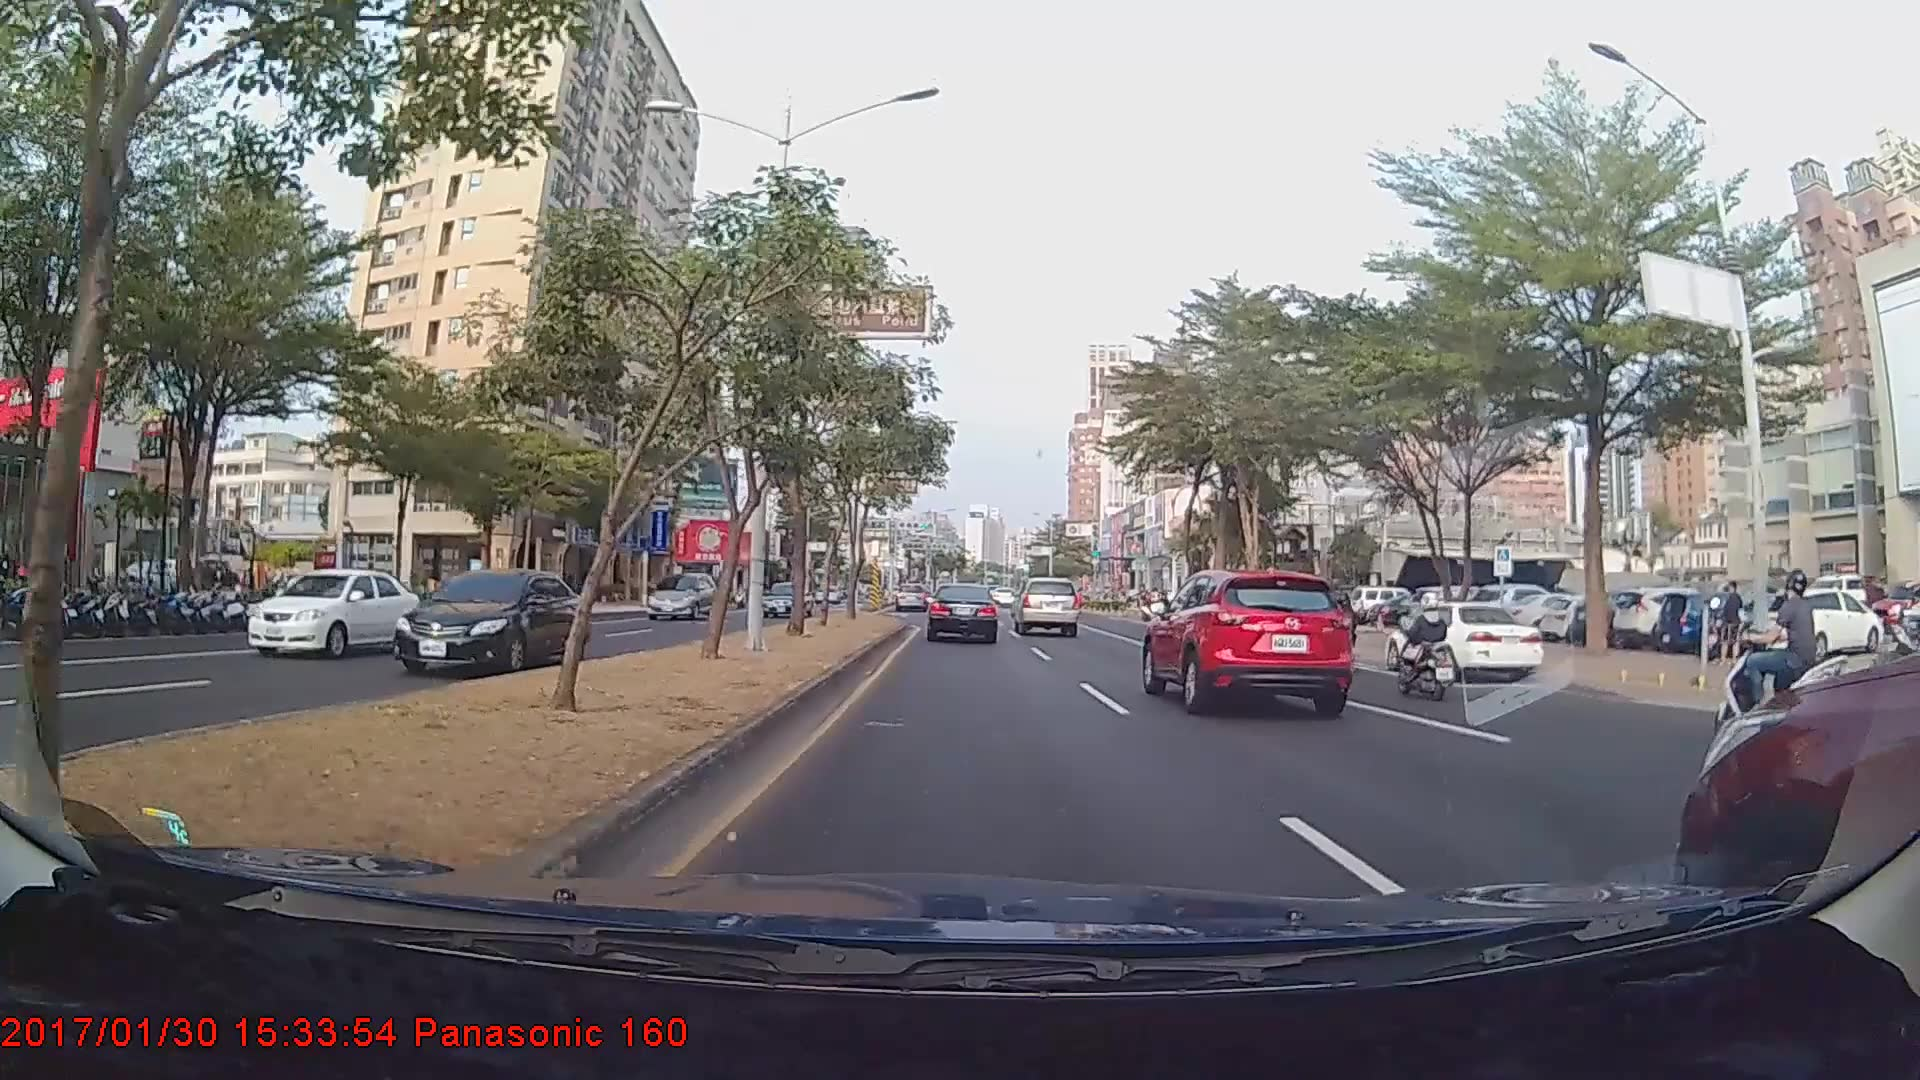pedestrian: (1716, 578, 1747, 660)
rider: (1711, 555, 1836, 758), (1386, 586, 1461, 701)
vehicle: (1643, 520, 1917, 1068), (1142, 559, 1356, 713), (382, 563, 584, 673), (245, 566, 428, 655), (1381, 599, 1544, 682), (1759, 585, 1888, 661), (926, 582, 999, 643), (1012, 576, 1080, 636), (643, 568, 718, 617), (763, 581, 808, 621), (894, 582, 930, 613)
